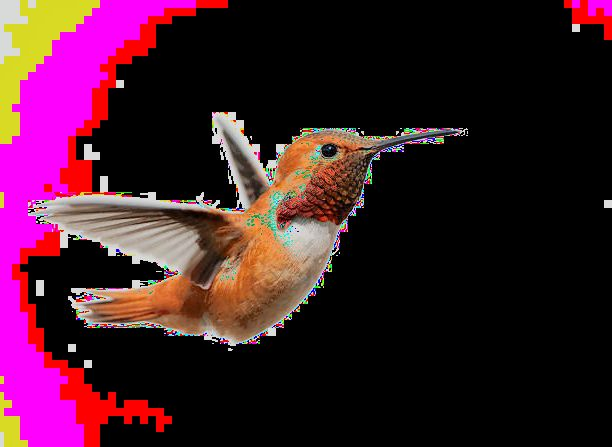Bird: (22, 108, 473, 357)
